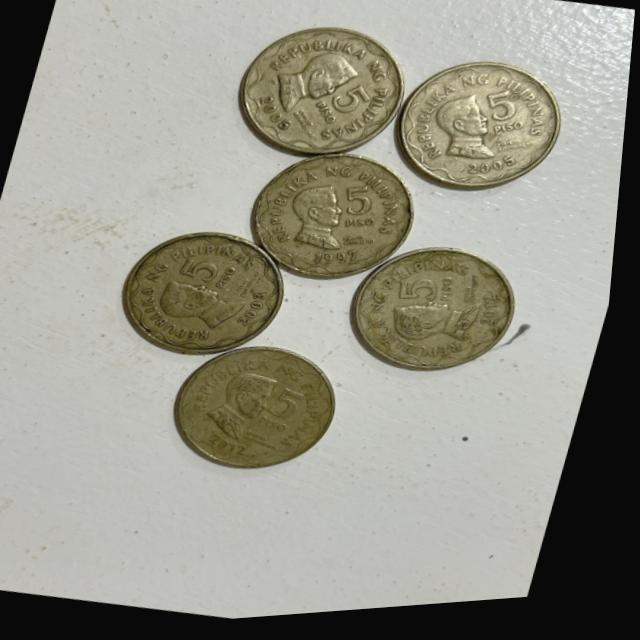5_Old_Front: (394, 268, 475, 328), (309, 80, 383, 141), (472, 91, 542, 153), (187, 251, 262, 303), (267, 378, 316, 441), (333, 187, 386, 241)
